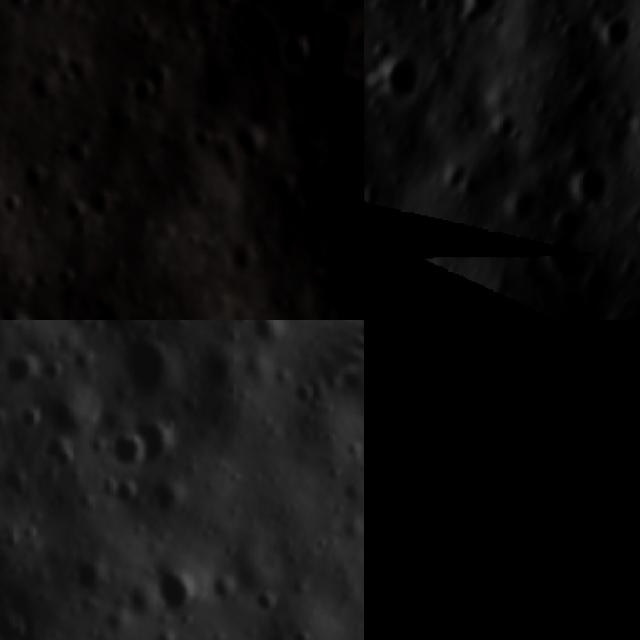crater: (100, 320, 191, 405), (133, 542, 219, 628), (176, 324, 256, 405), (553, 150, 622, 217), (93, 417, 160, 484), (125, 398, 191, 463), (393, 361, 459, 426), (364, 562, 410, 640), (562, 565, 617, 629), (536, 485, 593, 543), (65, 320, 156, 353), (244, 572, 298, 626), (0, 339, 49, 398), (441, 0, 505, 45), (364, 347, 412, 407), (31, 425, 84, 478), (0, 396, 52, 450), (425, 468, 476, 523), (377, 50, 424, 104), (450, 405, 500, 453), (265, 27, 316, 72), (234, 320, 292, 359), (589, 7, 632, 53), (0, 448, 38, 500), (118, 72, 163, 115), (515, 451, 560, 494), (364, 163, 390, 232), (79, 180, 119, 220), (19, 161, 59, 200), (57, 136, 93, 173), (0, 396, 13, 439), (622, 619, 640, 640), (431, 311, 471, 320)
